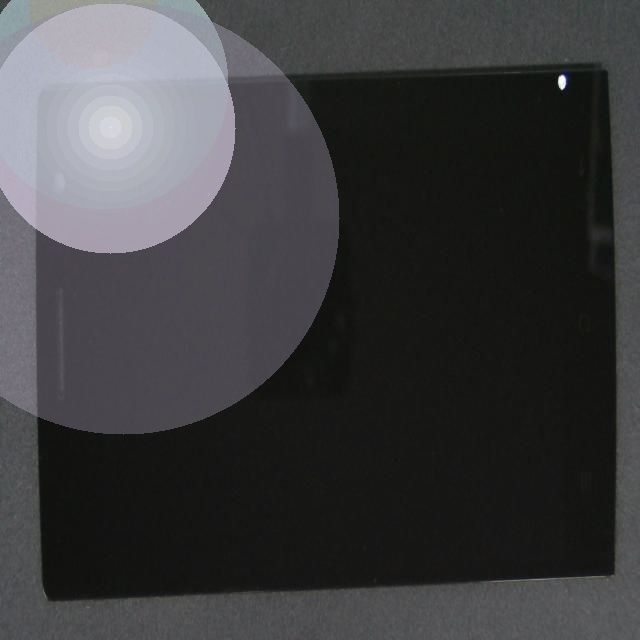stain: (284, 67, 640, 201)
